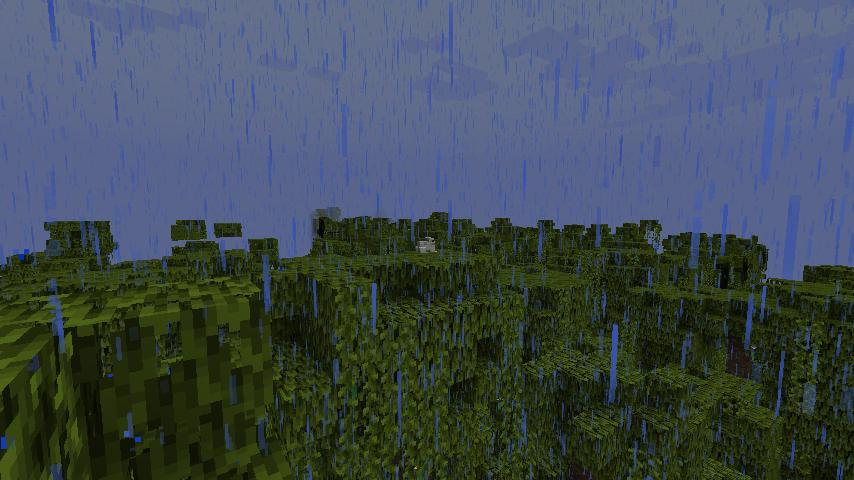frog: (412, 234, 441, 258)
